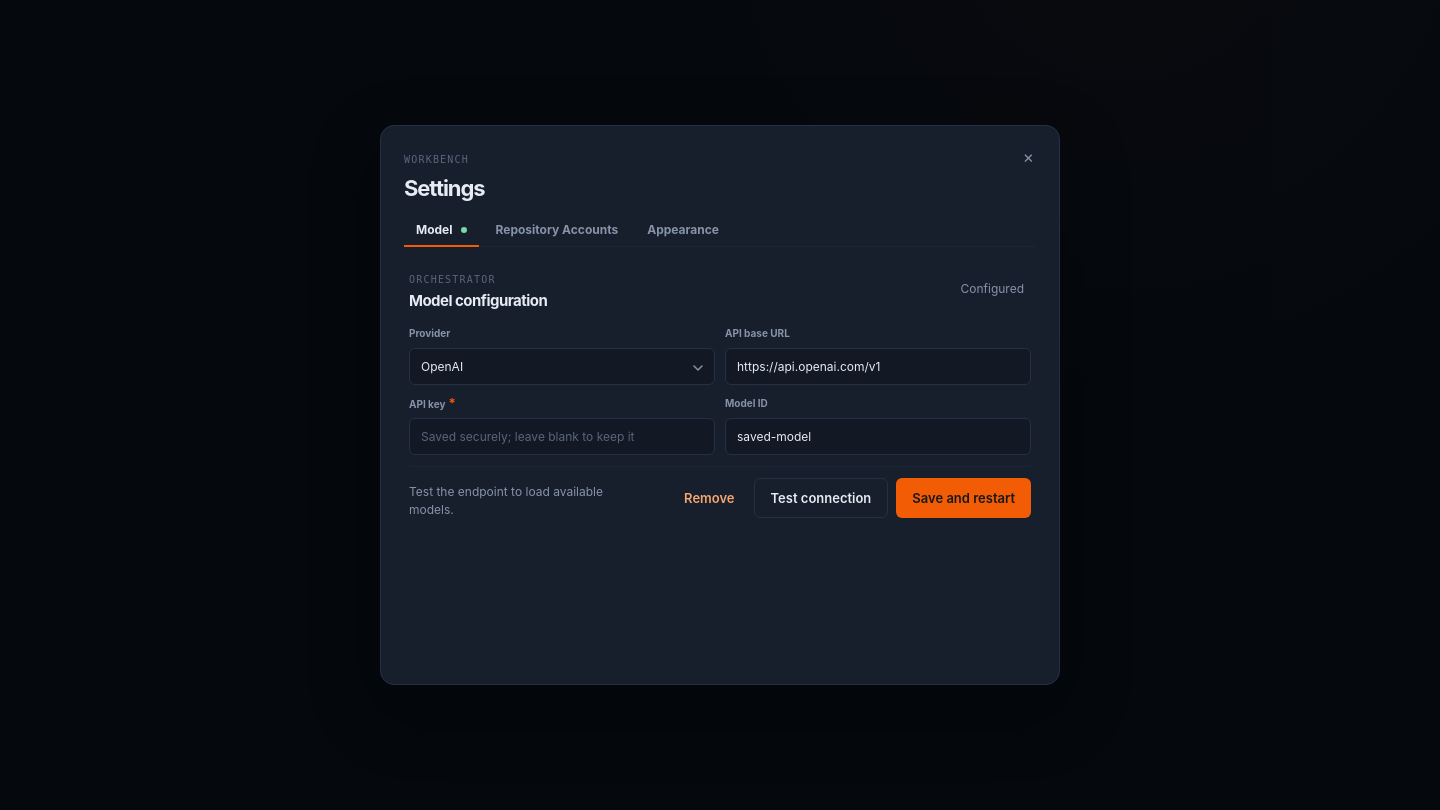
Test: model discovery settings › preserves a selected model still available in the fetched list
Expected: the field showing "saved-model" is shown, [725,418,1031,455]
What coordinates should you click on to do the following:
click the button "Test connection"
I would click on:
 (821, 498)
Its box is [754,478,888,518].
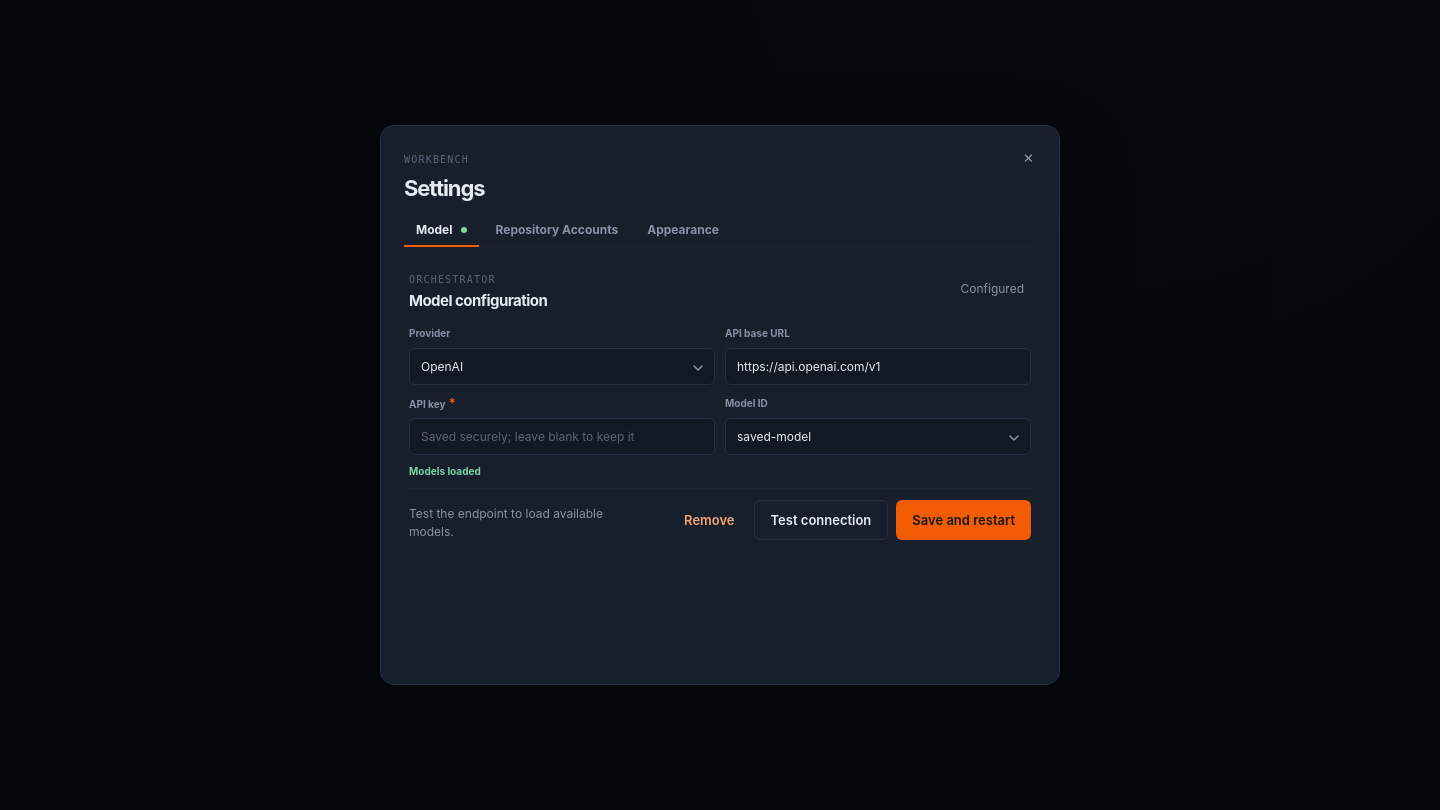
Now the dropdown named "Model ID" reads "saved-model", box [725,418,1031,455]
